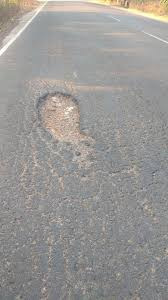potholes: (9, 56, 137, 219)
